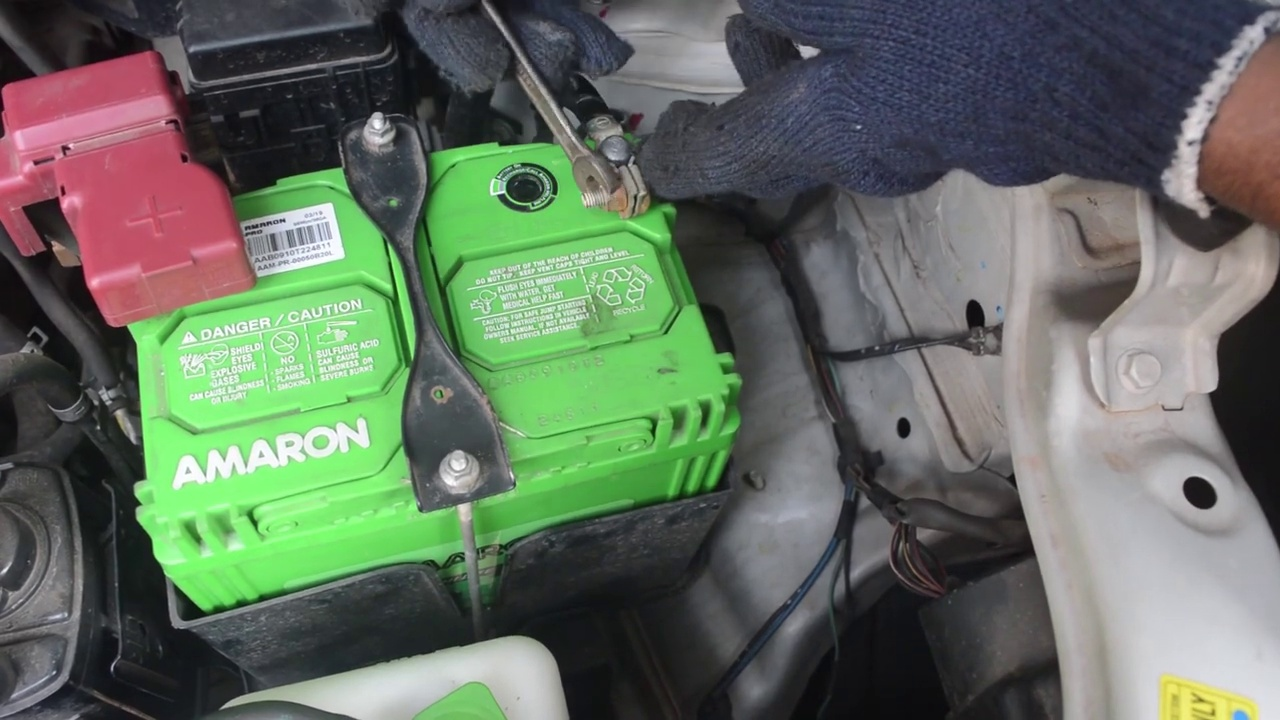battery: (99, 170, 756, 517)
neg_connected: (524, 95, 664, 217)
neg_touched: (448, 12, 801, 231)
pos_connected: (13, 72, 286, 336)
